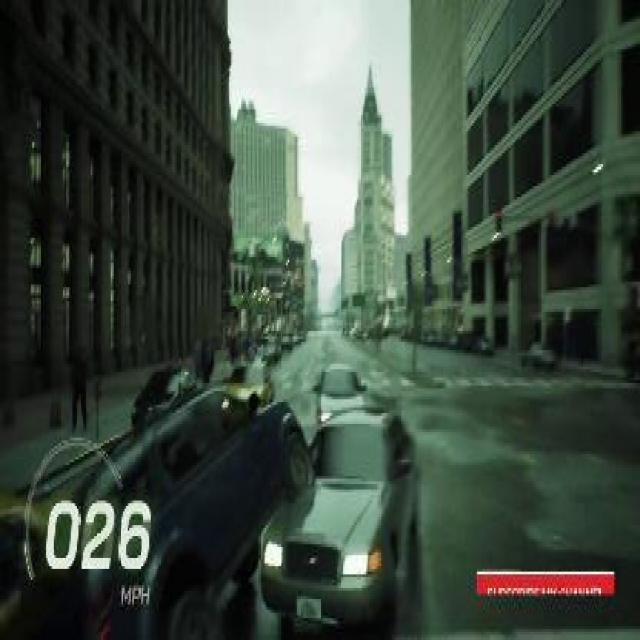accident: (58, 380, 430, 640)
